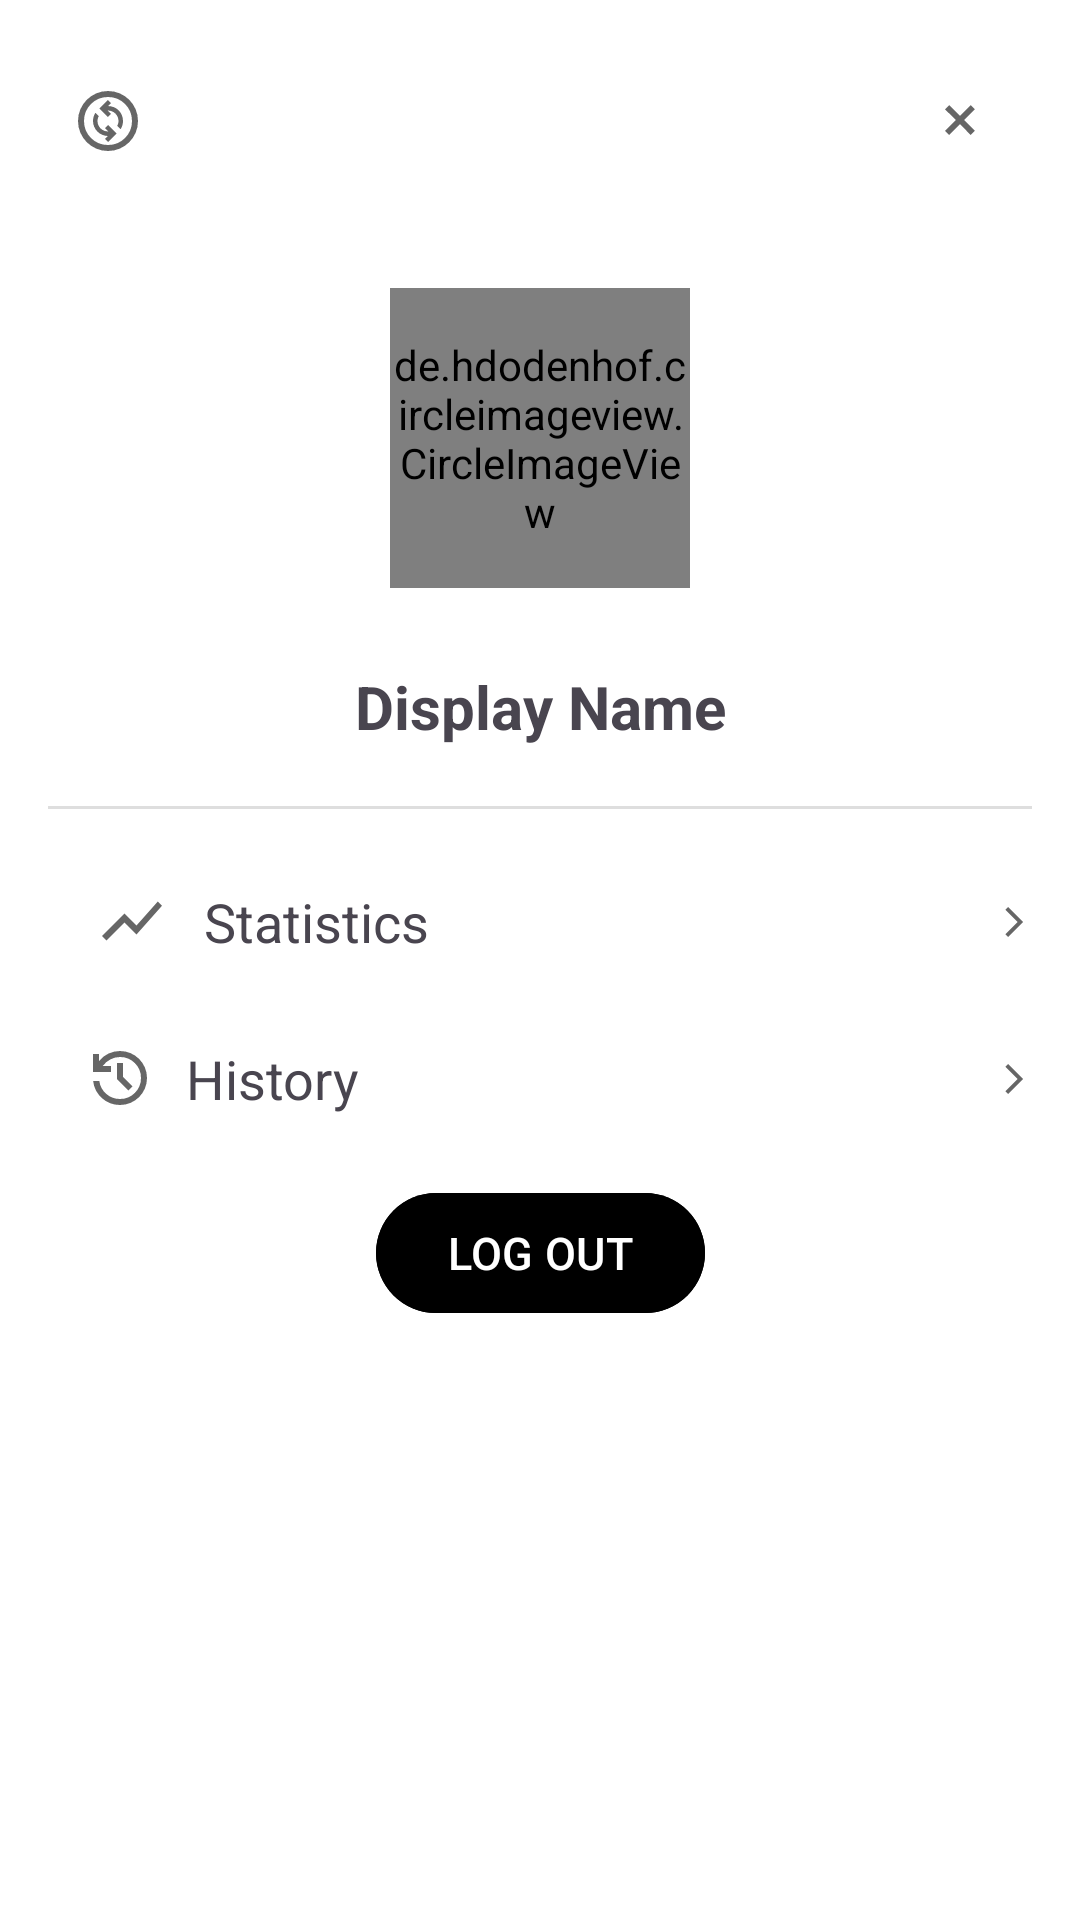

Icons on this 1080 × 1920 Android screen, each with the point to tap as (x,y):
arrow: (1014,922), (1014,1079)
Close Profile: (960,120)
